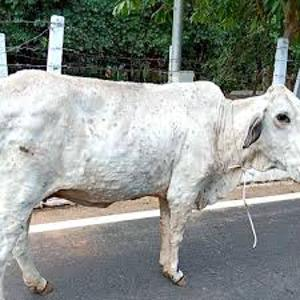lumpy skin diesease: (0, 67, 299, 299)
